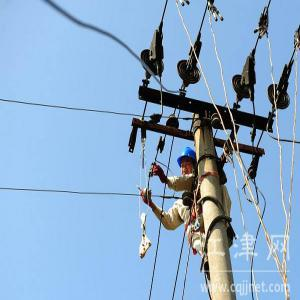blue: (179, 147, 197, 177)
